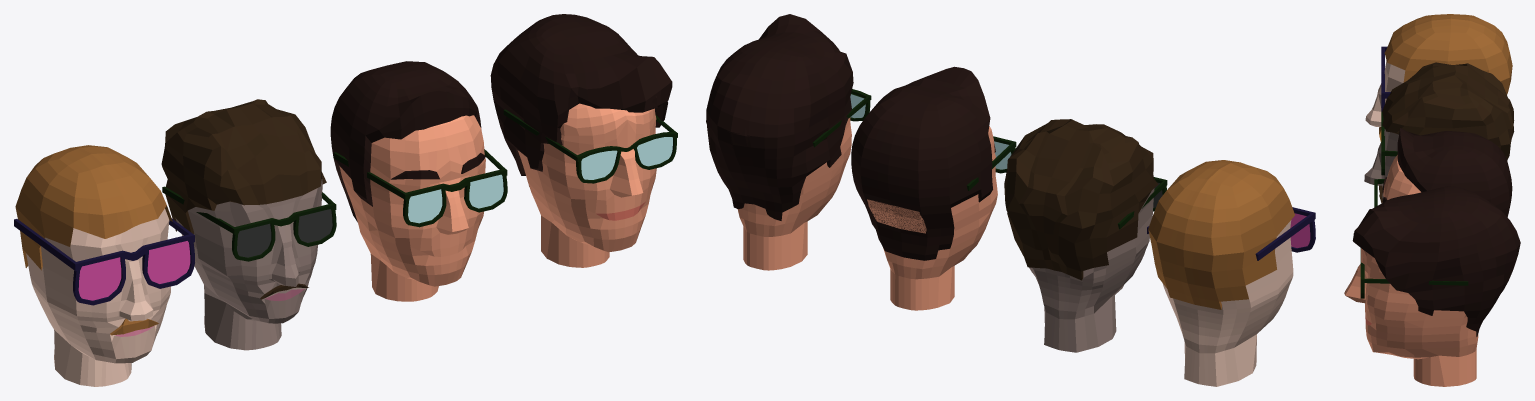
The model's file is 4_Cabeças.fbx.
3 views of the same model, side by side, from view 1: azimuth 30°, elevation 25°; view 2: azimuth 150°, elevation 25°; view 3: azimuth 270°, elevation 25° (orthographic). The views are drawn at different scales.
Visible parts, largest first — view 1: Cube, Cube.002, Cube.004, Cube.009, Cube.007, Cube.006, Cube.003, Cube.005, Cube.001, Cube.008; view 2: Cube, Cube.002, Cube.009, Cube.006, Cube.004, Cube.007, Cube.003, Cube.008, Cube.005; view 3: Cube.009, Cube, Cube.007, Cube.002, Cube.006, Cube.004, Cube.008, Cube.001, Cube.003.
Part boxes in pixels (x1,y1,x2,y2): Cube: (161,99,326,350); Cube.002: (15,145,172,386); Cube.004: (339,115,485,301); Cube.009: (490,14,672,186); Cube.007: (517,103,656,267); Cube.006: (330,61,481,222); Cube.003: (14,218,194,305); Cube.005: (333,149,507,227); Cube.001: (162,186,336,261); Cube.008: (503,109,677,183); Cube: (1004,119,1158,352); Cube.002: (1148,160,1294,386); Cube.009: (706,14,853,220); Cube.006: (851,66,992,260); Cube.004: (867,126,997,310); Cube.007: (737,117,851,270); Cube.003: (1147,207,1315,260); Cube.008: (812,89,871,147); Cube.005: (966,136,1016,190); Cube.009: (1352,186,1520,336); Cube: (1364,62,1514,203); Cube.007: (1344,248,1478,386); Cube.002: (1365,14,1512,141); Cube.006: (1397,128,1512,216); Cube.004: (1382,155,1420,202); Cube.008: (1360,248,1468,298); Cube.001: (1381,111,1397,175); Cube.003: (1381,46,1390,111).
Bounding box in the file's own units: 482 × 174 × 153.
